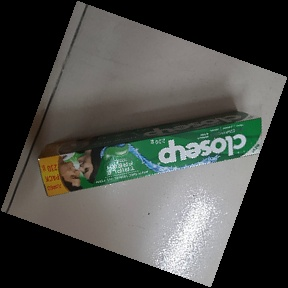CloseUp Xanh: (37, 110, 266, 198)
